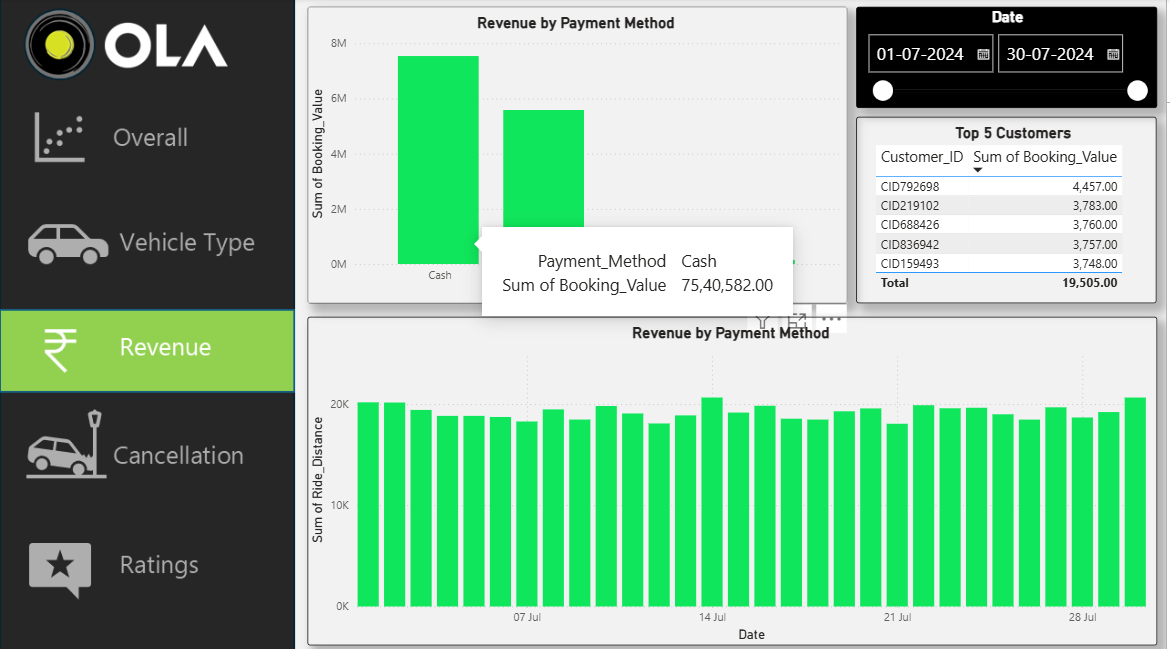

The page's visual inventory and layout, read from the dashboard file:
{"tool":"powerbi","page":{"name":"Revenue","canvas":[1280,720],"ordinal":2},"visuals":[{"type":"actionButton","box":[0,111,324.5,91.7],"z":0},{"type":"actionButton","box":[1.2,216,324.5,91.7],"z":1000},{"type":"actionButton","box":[2.4,447.6,324.5,91.7],"z":2000},{"type":"actionButton","box":[0,571.9,324.5,91.7],"z":3000},{"type":"columnChart","title":"Revenue by Payment Method","fields":{"Y":["Sum(bookings.Booking_Value)"],"Category":["bookings.Payment_Method"]},"box":[337.6,9.6,592.8,325.2],"z":4000},{"type":"columnChart","title":"Revenue by Payment Method","fields":{"Y":["Sum(bookings.Ride_Distance)"],"Category":["bookings.Date"]},"box":[337.6,349.9,933.1,360.9],"z":5000},{"type":"slicer","title":"Date","fields":{"Values":["bookings.Date"]},"box":[940,9.6,330.7,111.1],"z":6000},{"type":"tableEx","title":"Top 5 Customers","fields":{"Values":["bookings.Customer_ID","Sum(bookings.Booking_Value)"]},"box":[940,130.4,329.3,204.5],"z":7000}]}

Visuals, with their boxes in screenshot pixels (x1, y1, x2, y2), scaled from the page's 1280x720 canvas onto the 1170x649 screenshot:
actionButton: 0/100/297/183
actionButton: 1/195/298/277
actionButton: 2/403/299/486
actionButton: 0/516/297/598
"Revenue by Payment Method" columnChart: 309/9/850/302
"Revenue by Payment Method" columnChart: 309/315/1161/641
"Date" slicer: 859/9/1161/109
"Top 5 Customers" tableEx: 859/118/1160/302
